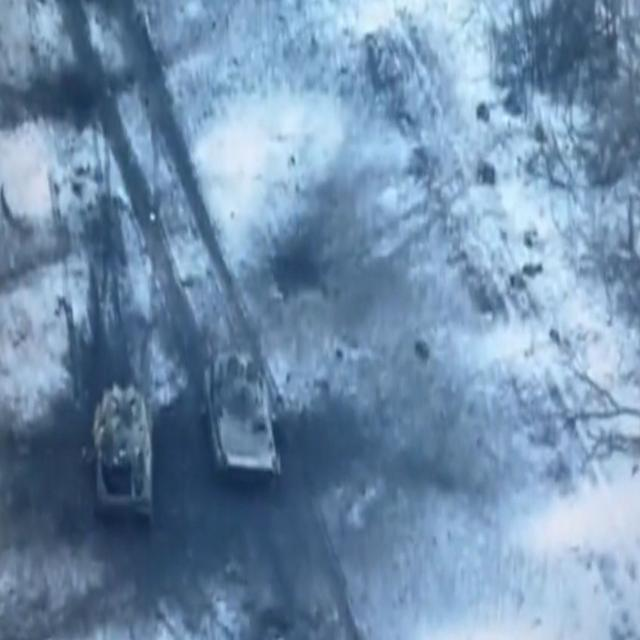apc: (204, 349, 282, 488), (93, 386, 153, 522)
